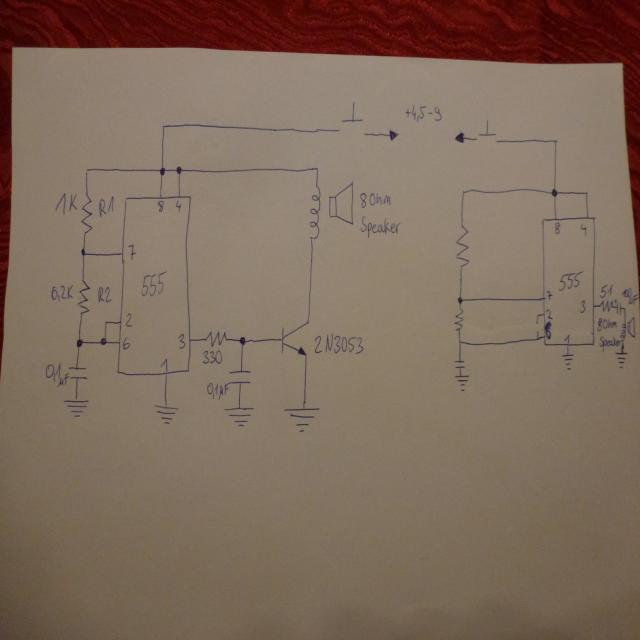capacitor: (227, 369, 252, 386), (66, 364, 89, 380), (614, 298, 622, 316), (453, 358, 466, 369)
ground: (283, 401, 321, 434), (223, 404, 254, 428), (62, 395, 89, 420), (152, 402, 179, 426), (614, 350, 628, 371), (453, 374, 469, 392), (560, 353, 574, 372)
inductor: (304, 177, 326, 247), (617, 313, 630, 352)
junction: (78, 246, 88, 258), (238, 334, 248, 346), (75, 336, 84, 348), (550, 186, 558, 198), (158, 165, 166, 176), (456, 294, 464, 304), (175, 164, 182, 175), (100, 335, 107, 346), (459, 187, 467, 196), (552, 136, 559, 145), (83, 167, 90, 174), (582, 188, 588, 196), (160, 121, 165, 129), (314, 163, 319, 171), (103, 318, 108, 325), (535, 312, 540, 317), (536, 336, 540, 342), (458, 338, 462, 344)
resistor: (453, 222, 471, 272), (78, 192, 93, 235), (75, 278, 90, 316), (204, 330, 228, 347), (453, 307, 464, 332), (598, 300, 614, 312)
source: (386, 126, 399, 142), (454, 130, 466, 144)
switch: (334, 99, 370, 139), (473, 117, 500, 145)
text: (313, 331, 364, 356), (360, 215, 401, 236), (403, 102, 443, 123), (139, 269, 166, 298), (45, 362, 69, 387), (359, 190, 392, 208), (558, 269, 583, 292), (53, 192, 78, 214), (206, 380, 229, 400), (598, 334, 620, 354), (50, 282, 73, 301), (96, 195, 115, 217), (201, 348, 222, 364), (596, 316, 617, 332), (621, 286, 638, 305), (96, 284, 112, 302), (598, 282, 614, 298), (126, 241, 138, 261), (176, 332, 185, 349), (124, 311, 133, 328), (159, 356, 168, 372), (544, 321, 552, 339), (578, 298, 587, 314), (578, 222, 588, 236), (121, 336, 130, 350), (174, 199, 182, 213), (156, 199, 164, 213), (553, 221, 561, 233), (544, 288, 552, 300), (563, 332, 570, 345), (544, 308, 552, 318)
transistor: (278, 318, 310, 359)
